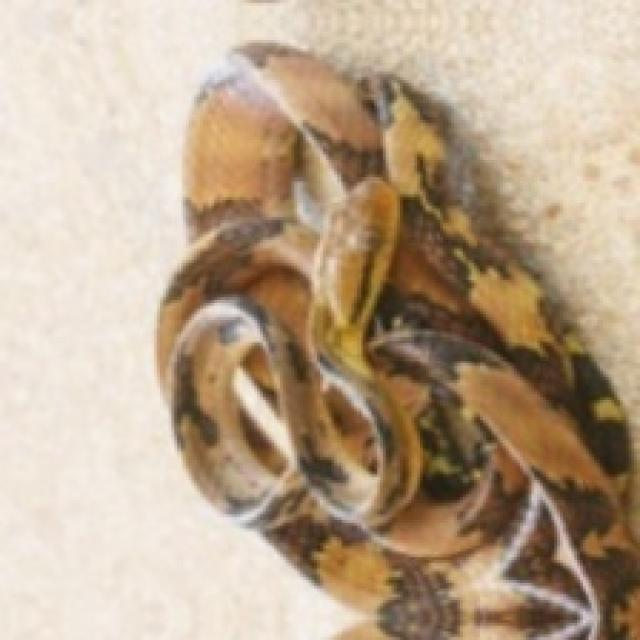dog-toothed cat snake: (157, 43, 637, 637)
